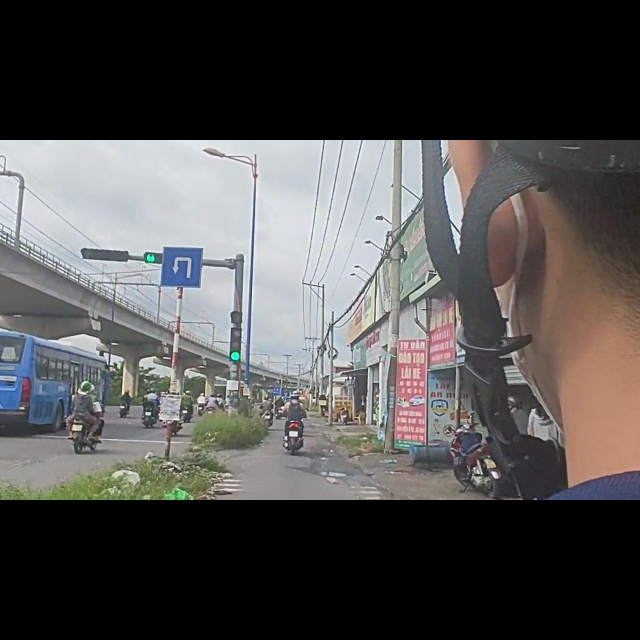bien_chi_dan: (157, 183, 210, 269)
